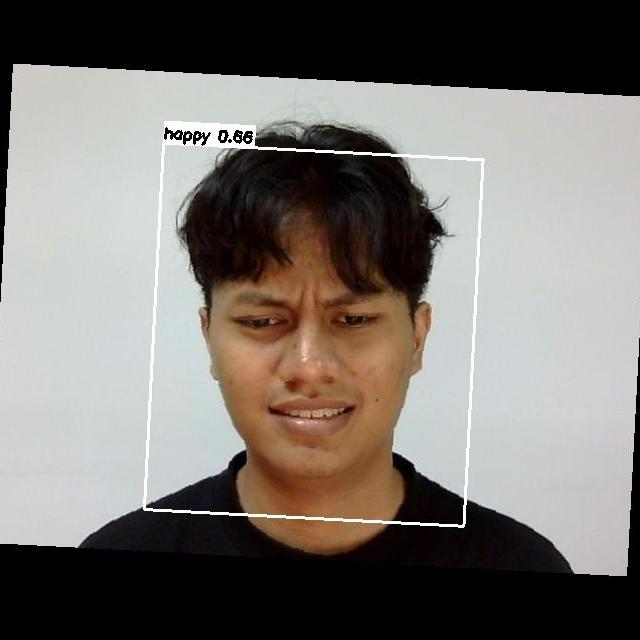Disgust: (213, 260, 430, 464)
